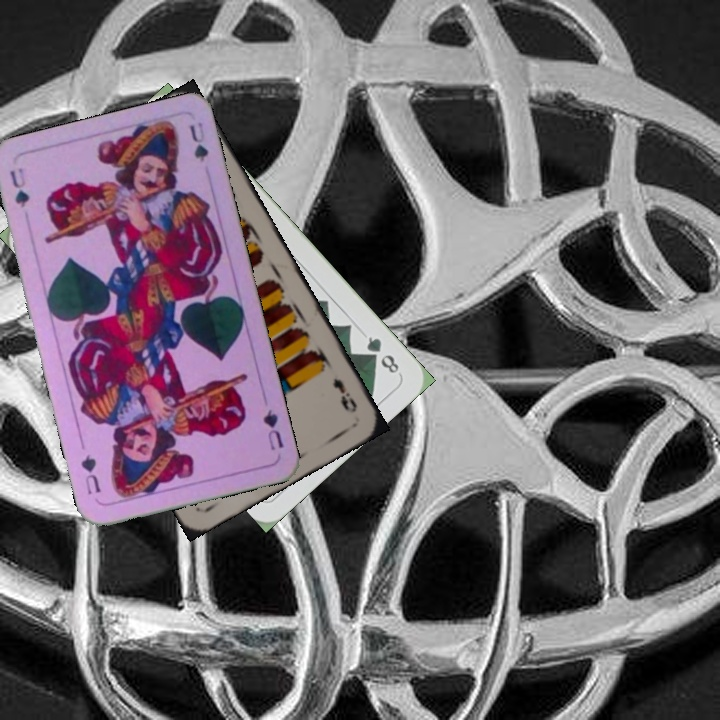E9: (328, 374, 360, 416)
G8: (362, 332, 402, 377)
GU: (259, 405, 286, 453), (5, 164, 32, 210)
